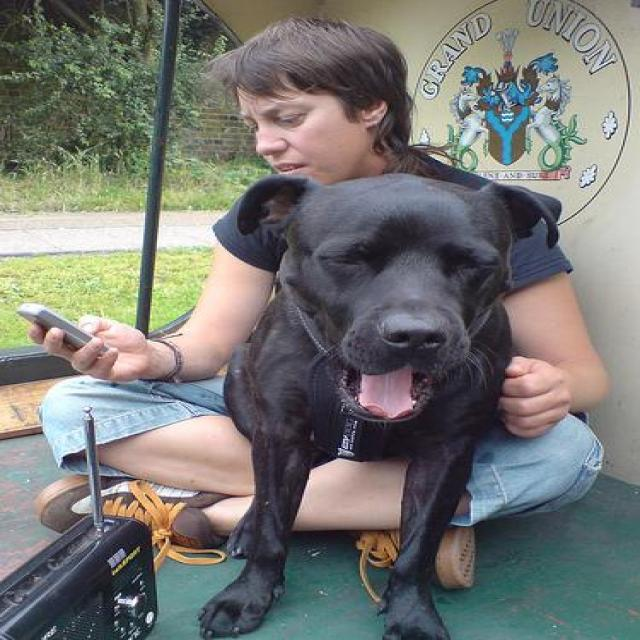staffordshire_bullterrier: (196, 175, 558, 638)
